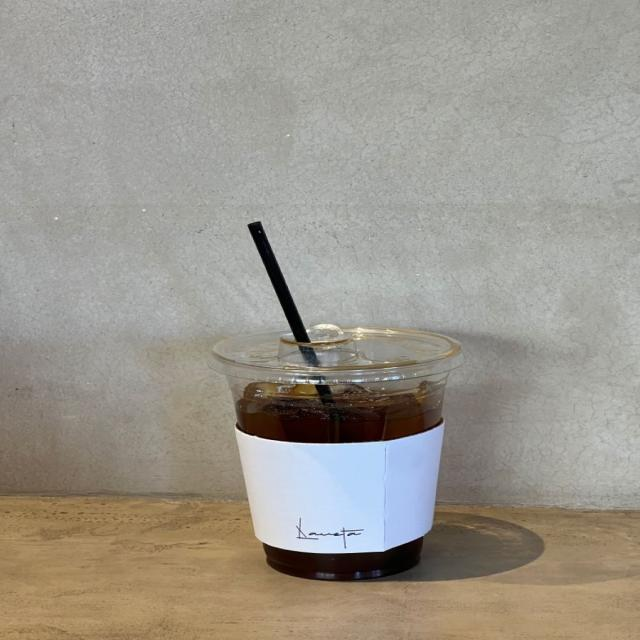plastic cup: (208, 324, 466, 582)
